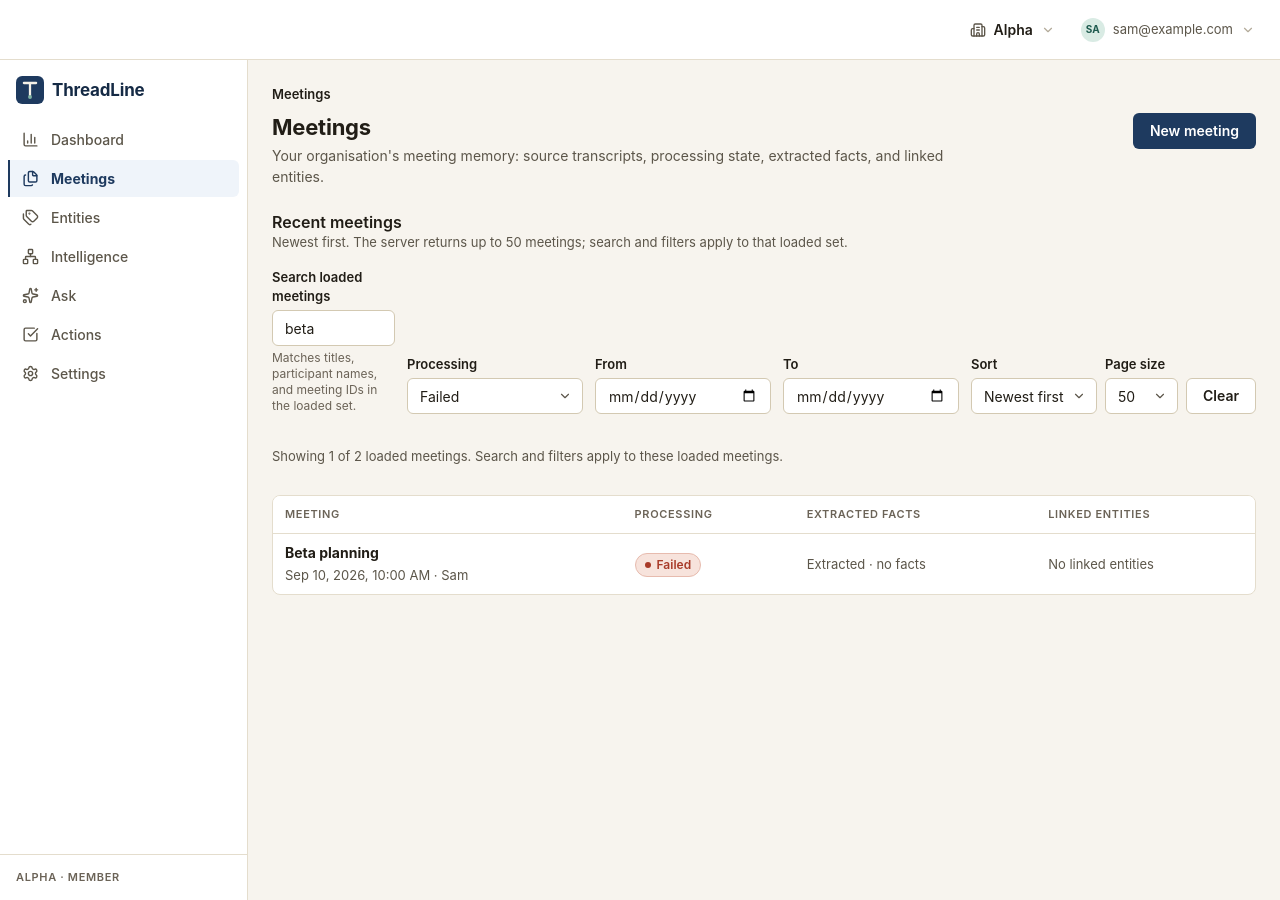
product shell › does not carry one organisation’s list filters into another organisation
Expected: the search field labelled "Search loaded meetings" holds "beta", [272,310,395,346]
Expected: the dropdown labelled "Processing" shows "Failed", [407,378,583,414]
Click the button with aria-label "switch organisation" at x=1012, y=30, box [970,21,1055,38]
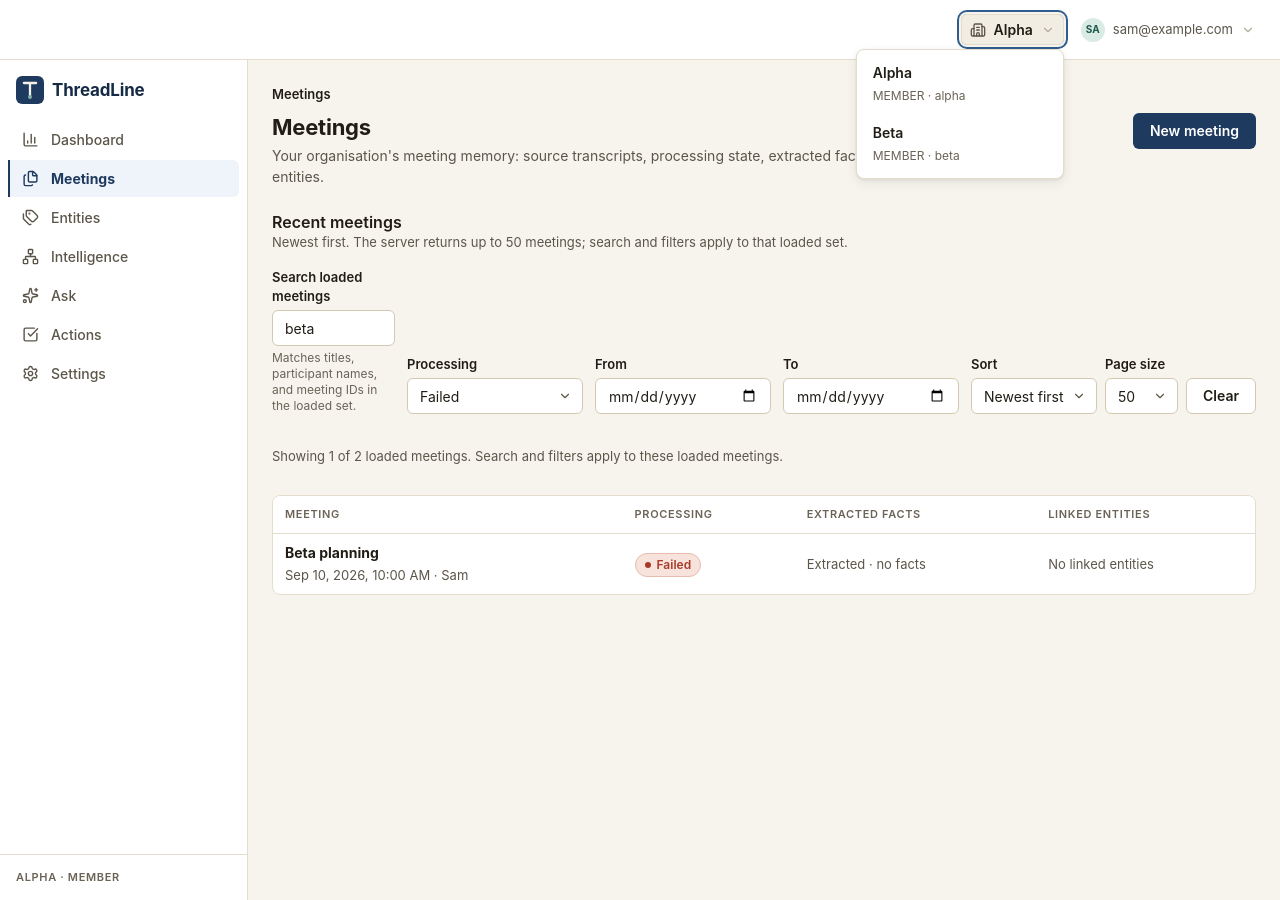
Click the menu item "Beta MEMBER · beta" at x=960, y=144, box [861,114,1059,174]
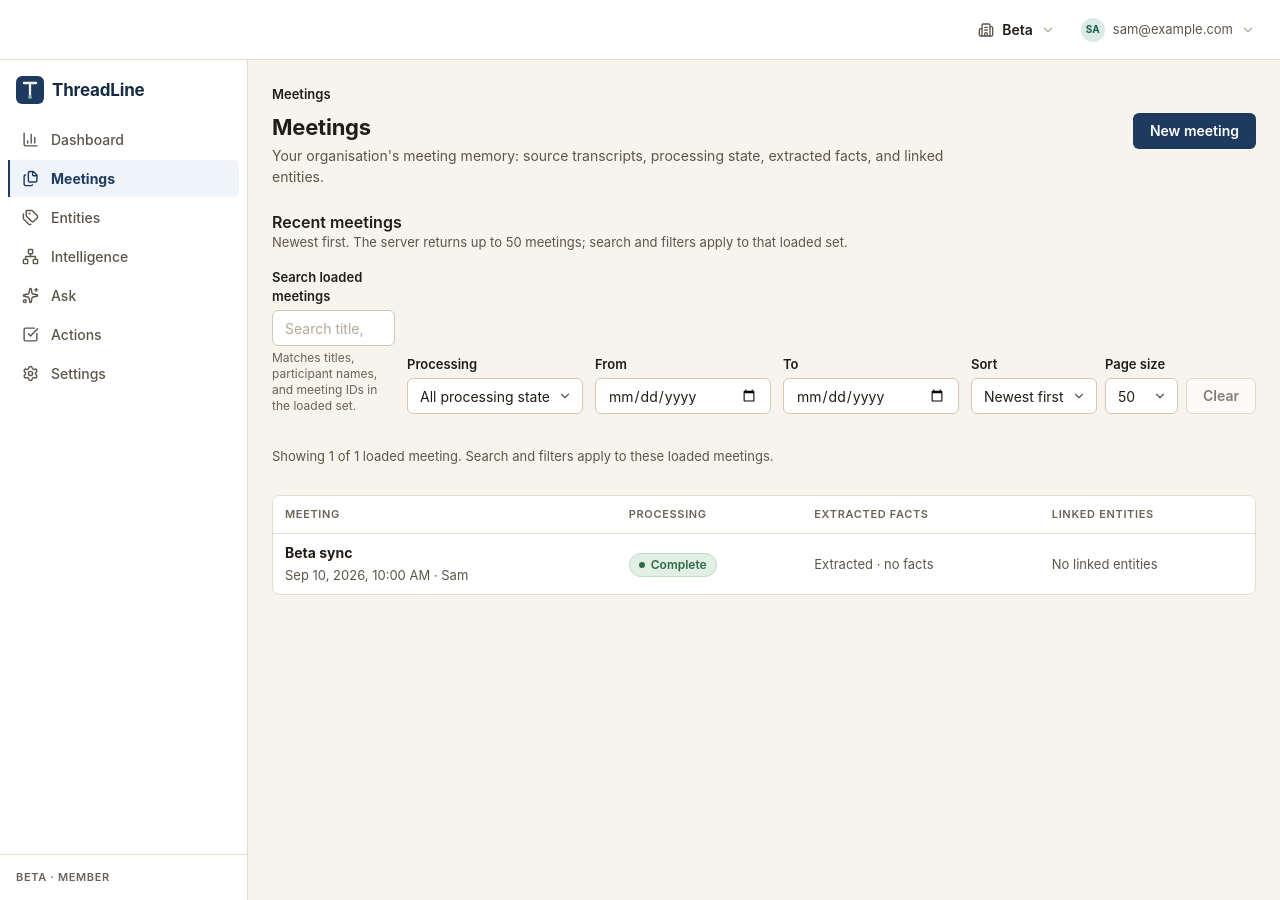
Expected: the link "Beta sync" is shown, [285,542,352,563]
Expected: the search field labelled "Search loaded meetings" is empty, [272,310,395,346]
Expected: the dropdown labelled "Processing" shows "All processing states", [407,378,583,414]
